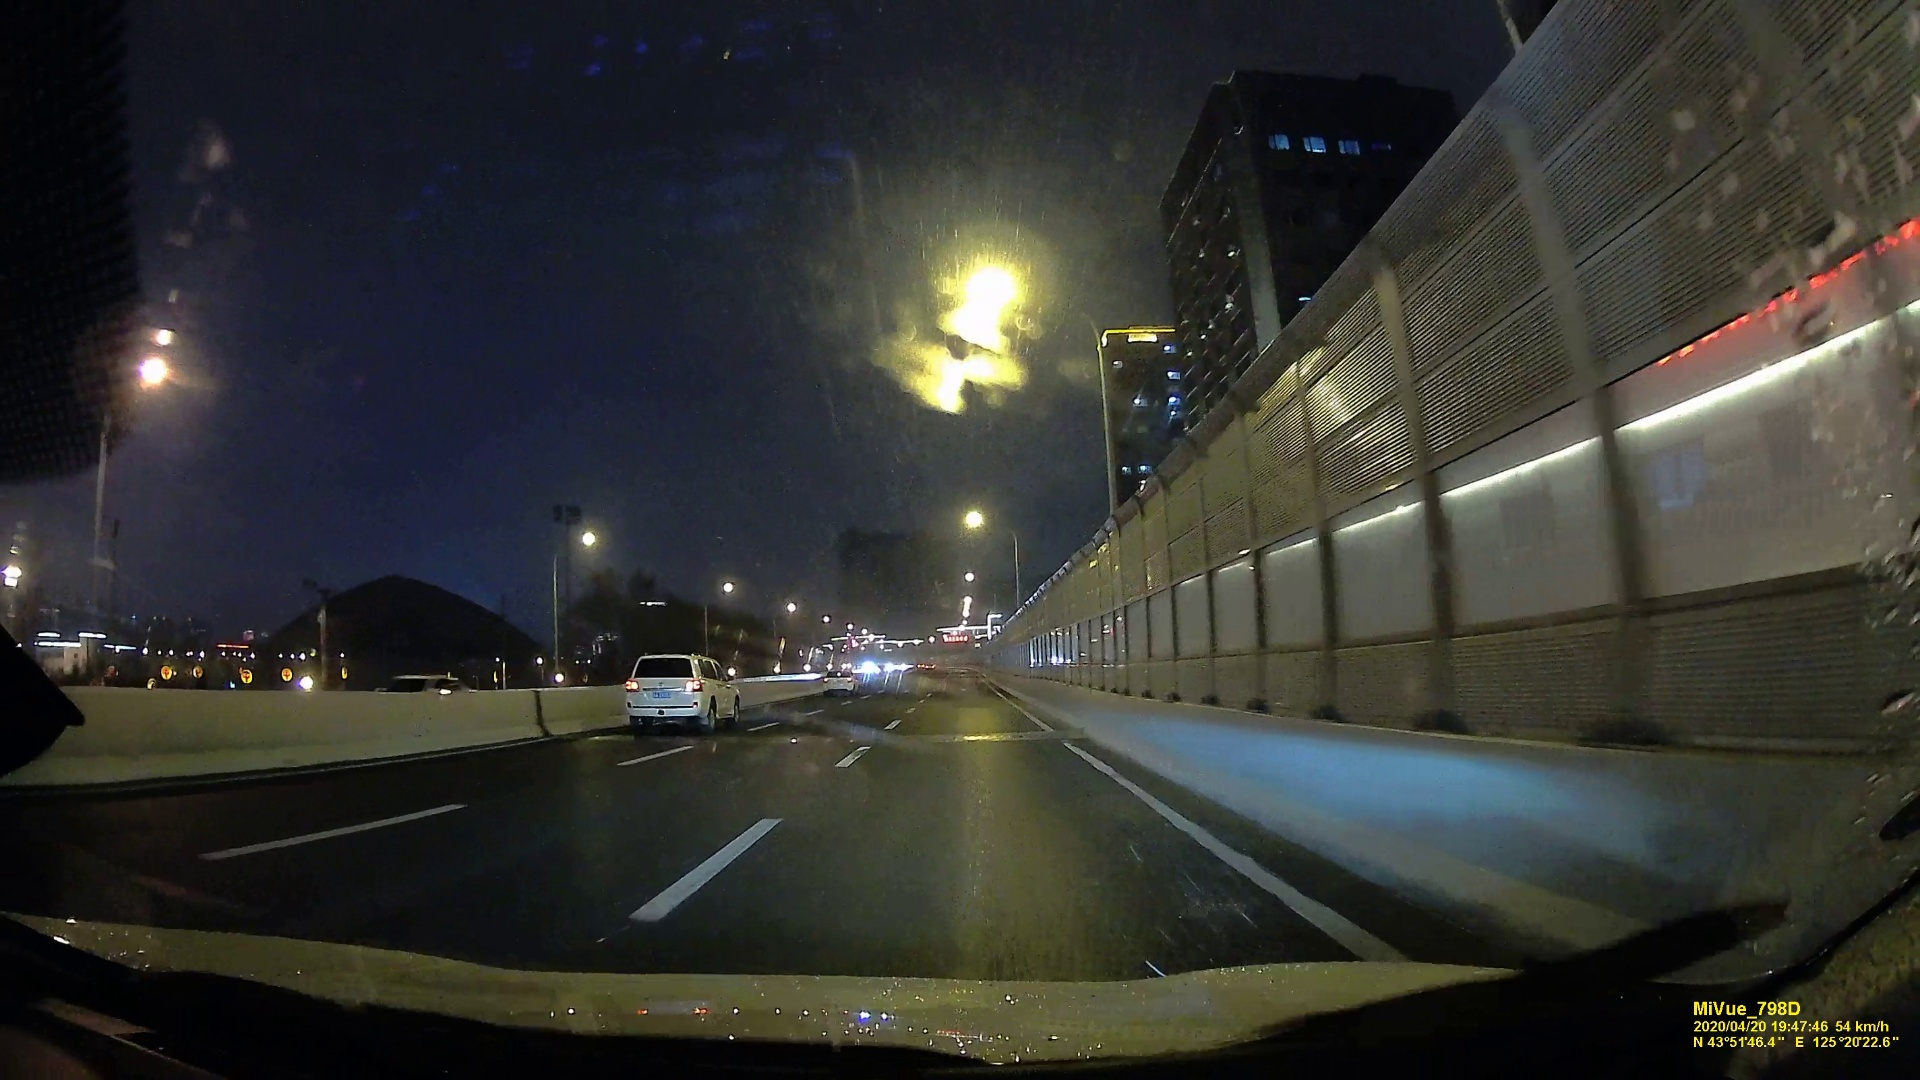vehicle: (622, 655, 742, 731), (822, 669, 862, 695)
